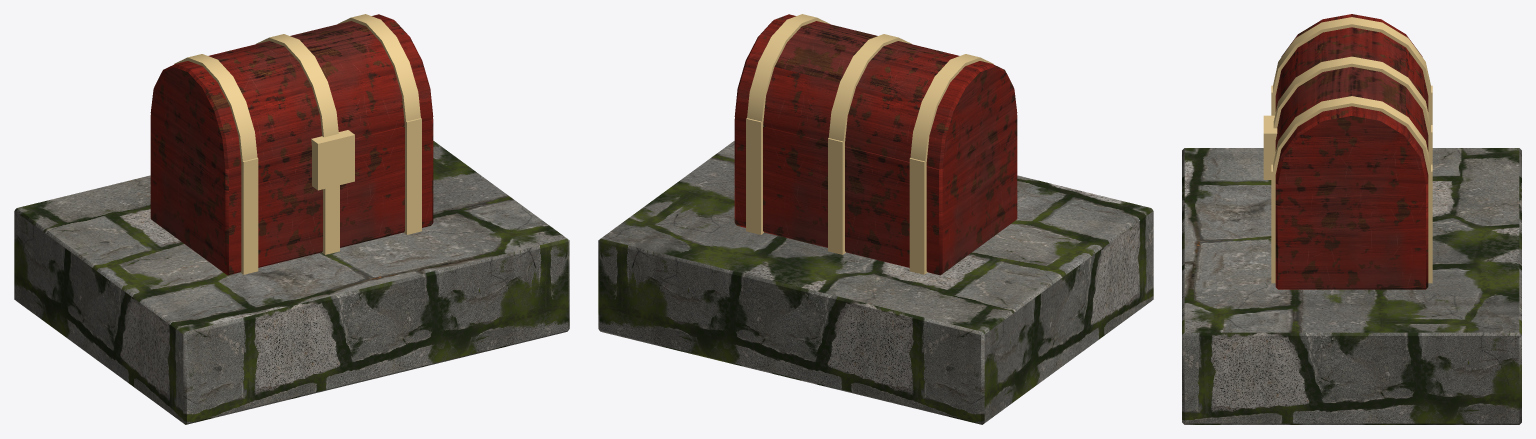
The model's file is TreasureChest.fbx.
3 views of the same model, side by side, from view 1: azimuth 30°, elevation 25°; view 2: azimuth 150°, elevation 25°; view 3: azimuth 270°, elevation 25° (orthographic).
Parts seen in each view (by area): view 1: TreasureChest_LOD0; view 2: TreasureChest_LOD0; view 3: TreasureChest_LOD0.
Boxes of the visible parts, box(x1,y1,x2,y2) form: TreasureChest_LOD0: box(14, 14, 569, 424); TreasureChest_LOD0: box(598, 14, 1153, 424); TreasureChest_LOD0: box(1182, 14, 1521, 424).
Size of what is drawn, in the model's own units: 2.6 by 1.77 by 2.
